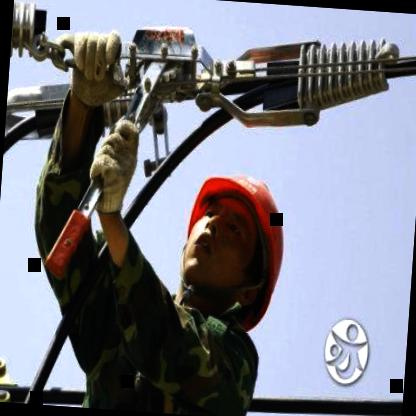helmet: (165, 148, 296, 323)
